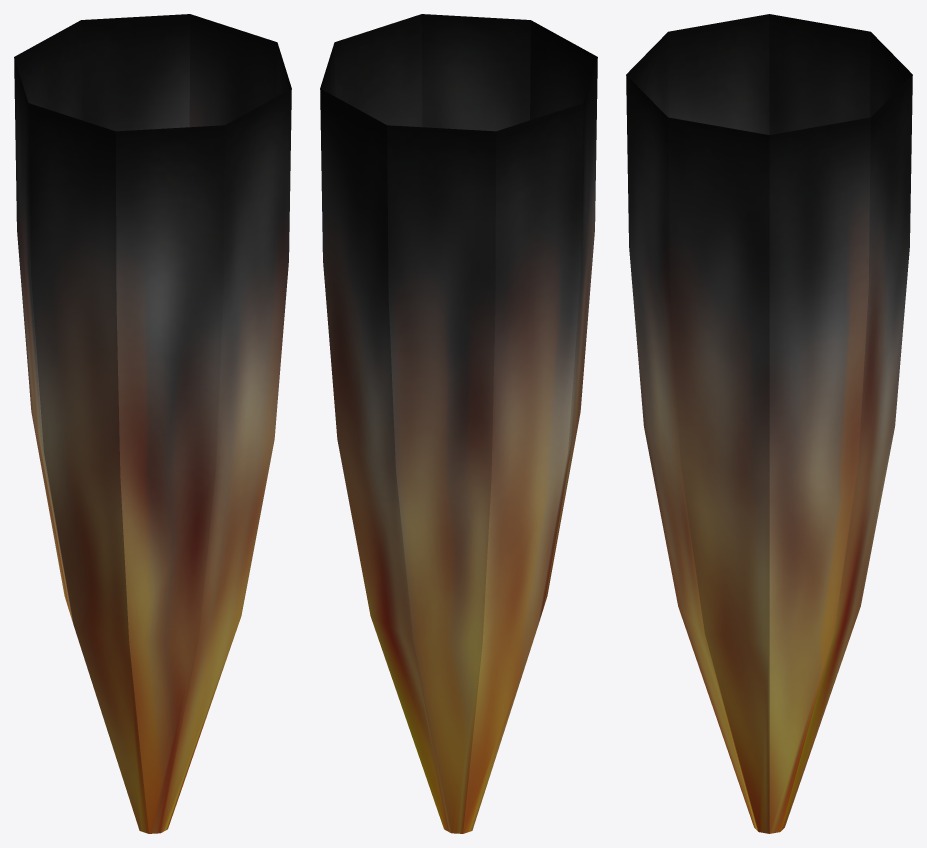
File: eng_plumes_07.fbx
3 renders of one model, left to right at view 1: azimuth 30°, elevation 25°; view 2: azimuth 150°, elevation 25°; view 3: azimuth 270°, elevation 25°, orthographic.
Visible parts, largest first — view 1: eng_plume_07; view 2: eng_plume_07; view 3: eng_plume_07.
Part boxes in pixels (x1,y1,x2,y2): eng_plume_07: (14, 14, 291, 833); eng_plume_07: (320, 14, 597, 833); eng_plume_07: (626, 14, 912, 833).
Bounding box in the file's own units: 9.26 × 26.84 × 9.26.
Materials: 1 (1 with a texture image).
